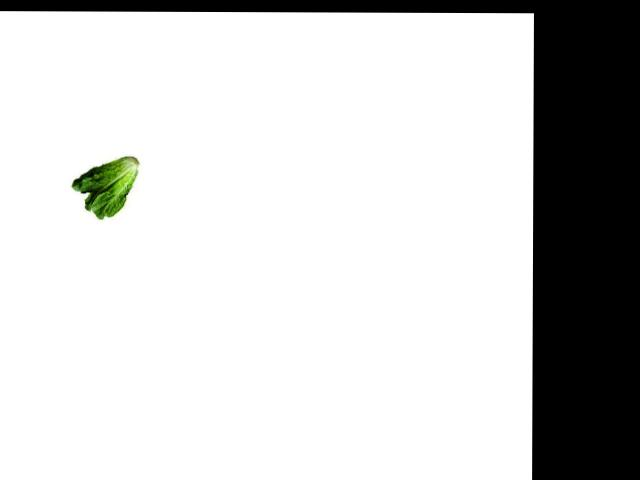lettuce: (72, 154, 141, 228)
